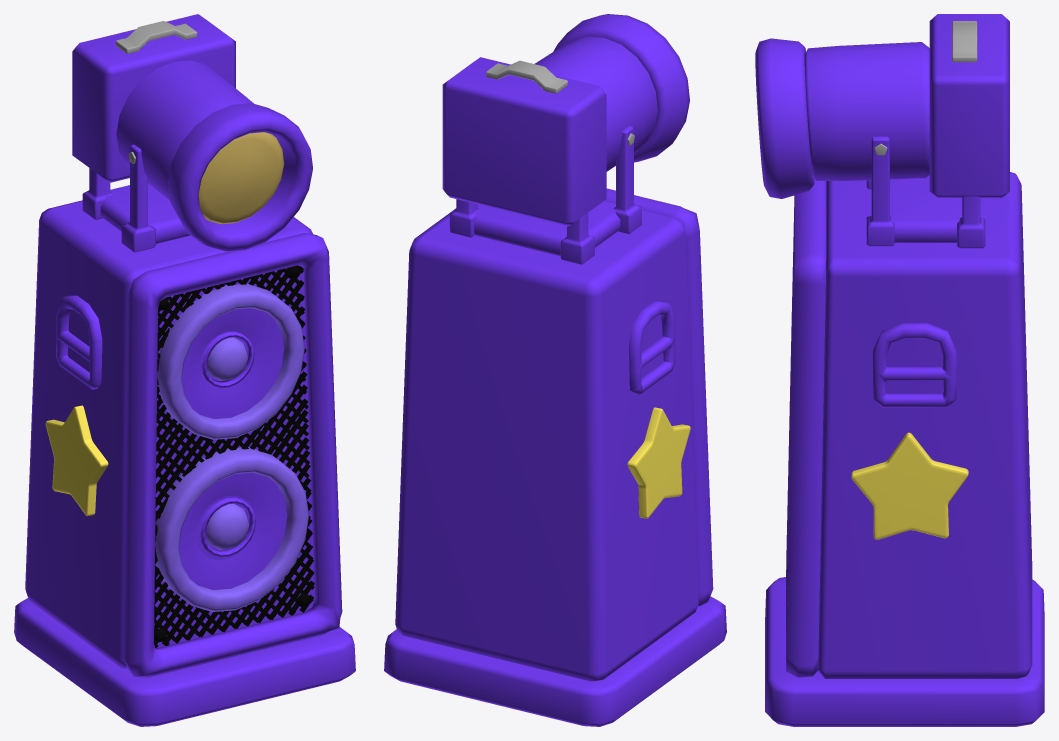
Rendered from SpeakerStack.fbx.
3 views of the same model, side by side, from view 1: azimuth 30°, elevation 25°; view 2: azimuth 150°, elevation 25°; view 3: azimuth 270°, elevation 25° (orthographic). The views are drawn at different scales.
Parts seen in each view (by area): view 1: S_Speaker_Stack9, S_Speaker_Stack10, S_Speaker_Stack8, M_Speaker_Stack3, S_Speaker_Stack6, S_Speaker_Stack5, S_Speaker_Stack2, M_Speaker_Stack4, S_Speaker_Stack12, S_Speaker_Stack11, S_Speaker_Stack7, S_Speaker_Stack14 (+5 smaller); view 2: S_Speaker_Stack9, M_Speaker_Stack3, S_Speaker_Stack8, S_Speaker_Stack14, M_Speaker_Stack4, S_Speaker_Stack10, S_Speaker_Stack6, S_Speaker_Stack1, D_Speaker_Stack152, D_Speaker_Stack149; view 3: S_Speaker_Stack9, S_Speaker_Stack8, S_Speaker_Stack10, M_Speaker_Stack4, M_Speaker_Stack3, S_Speaker_Stack6, S_Speaker_Stack14, S_Speaker_Stack13, D_Speaker_Stack154, D_Speaker_Stack149.
Boxes of the visible parts, x1,y1,x2,y2 form: S_Speaker_Stack9: (25, 200, 314, 669); S_Speaker_Stack10: (123, 233, 342, 677); S_Speaker_Stack8: (14, 598, 355, 726); M_Speaker_Stack3: (72, 14, 235, 182); S_Speaker_Stack6: (167, 103, 312, 251); S_Speaker_Stack5: (155, 447, 308, 611); S_Speaker_Stack2: (157, 283, 304, 439); M_Speaker_Stack4: (116, 60, 253, 199); S_Speaker_Stack12: (179, 472, 287, 590); S_Speaker_Stack11: (182, 308, 283, 418); S_Speaker_Stack7: (198, 132, 284, 224); S_Speaker_Stack14: (82, 144, 190, 252); S_Speaker_Stack9: (395, 201, 698, 681); M_Speaker_Stack3: (442, 57, 606, 226); S_Speaker_Stack8: (384, 596, 726, 726); S_Speaker_Stack14: (449, 126, 641, 264); M_Speaker_Stack4: (535, 36, 657, 171); S_Speaker_Stack10: (604, 188, 713, 606); S_Speaker_Stack6: (553, 14, 689, 162); S_Speaker_Stack1: (627, 407, 690, 518); D_Speaker_Stack152: (629, 301, 675, 395); D_Speaker_Stack149: (486, 60, 567, 93); S_Speaker_Stack9: (818, 172, 1032, 678); S_Speaker_Stack8: (765, 577, 1044, 726); S_Speaker_Stack10: (786, 178, 826, 677); M_Speaker_Stack4: (804, 42, 929, 181); M_Speaker_Stack3: (929, 14, 1009, 198); S_Speaker_Stack6: (755, 38, 814, 198); S_Speaker_Stack14: (866, 136, 985, 248); S_Speaker_Stack13: (851, 432, 968, 539); D_Speaker_Stack154: (873, 323, 956, 407); D_Speaker_Stack149: (952, 21, 977, 62).
Bounding box in the file's own units: 216 × 545 × 223.
